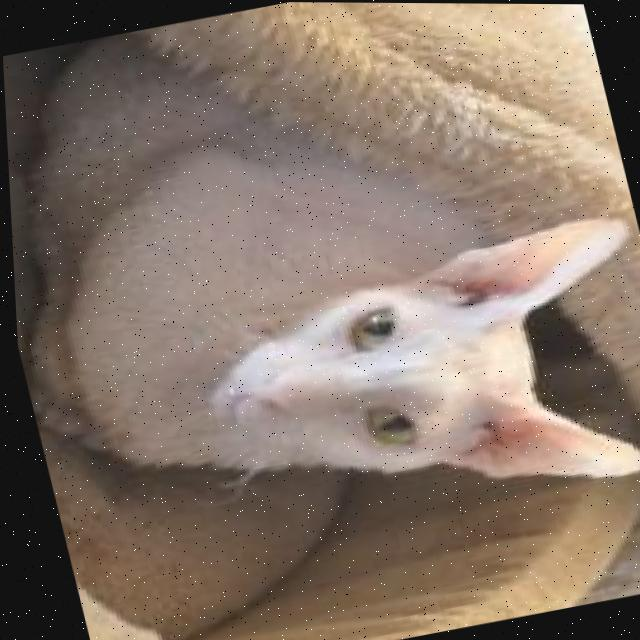Cornish Rex: (0, 0, 640, 589)
